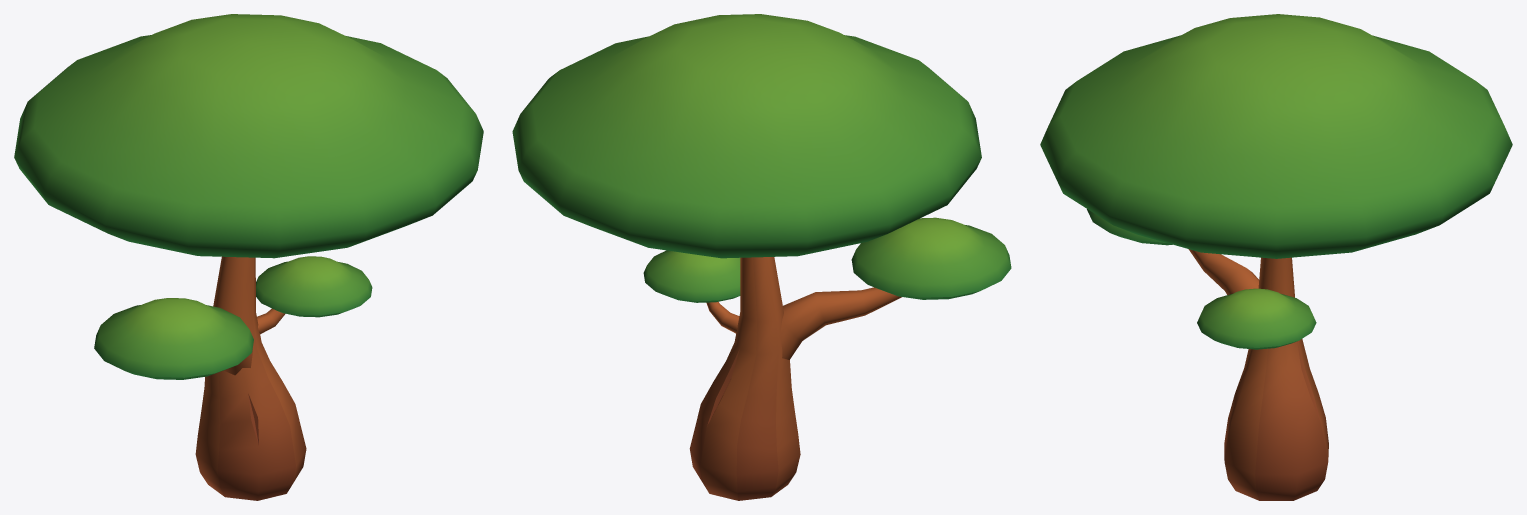
File: Tree_3_B.glb
3 views of the same model, side by side, from view 1: azimuth 30°, elevation 25°; view 2: azimuth 150°, elevation 25°; view 3: azimuth 270°, elevation 25° (orthographic).
Bounding box in the file's own units: 4.13 × 4.35 × 4.13.
